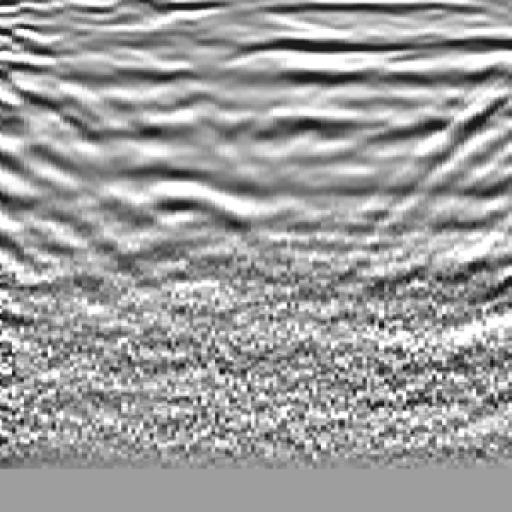metalic: (99, 40, 281, 283)
nonmetalic: (375, 42, 512, 295)
